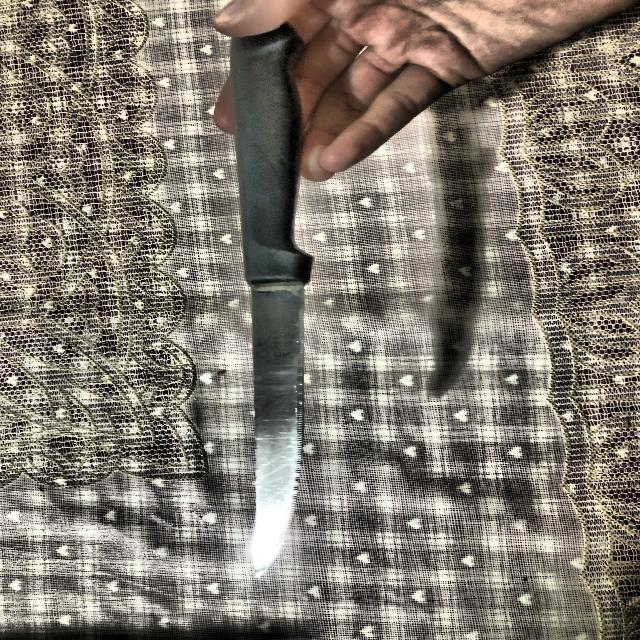knife: (230, 24, 316, 578)
